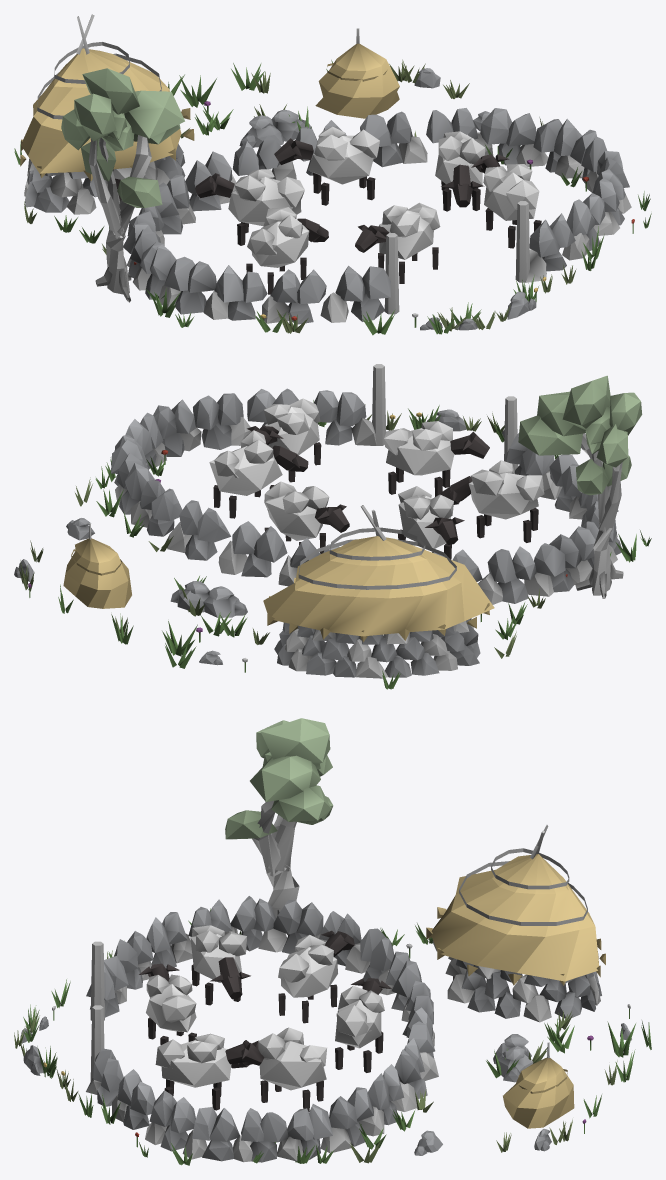
File: sheepfold-l1.glb
3 views of the same model, one above another, from view 1: azimuth 30°, elevation 25°; view 2: azimuth 150°, elevation 25°; view 3: azimuth 270°, elevation 25° (orthographic).
Visible parts, largest first — view 1: sheepfold-l1; view 2: sheepfold-l1; view 3: sheepfold-l1.
Part boxes in pixels (left/top/right/bottom): sheepfold-l1: left=14, top=14, right=651, bottom=335; sheepfold-l1: left=14, top=364, right=651, bottom=689; sheepfold-l1: left=14, top=718, right=651, bottom=1165.
Bounding box in the file's own units: 1.55 × 0.6131 × 1.65.
